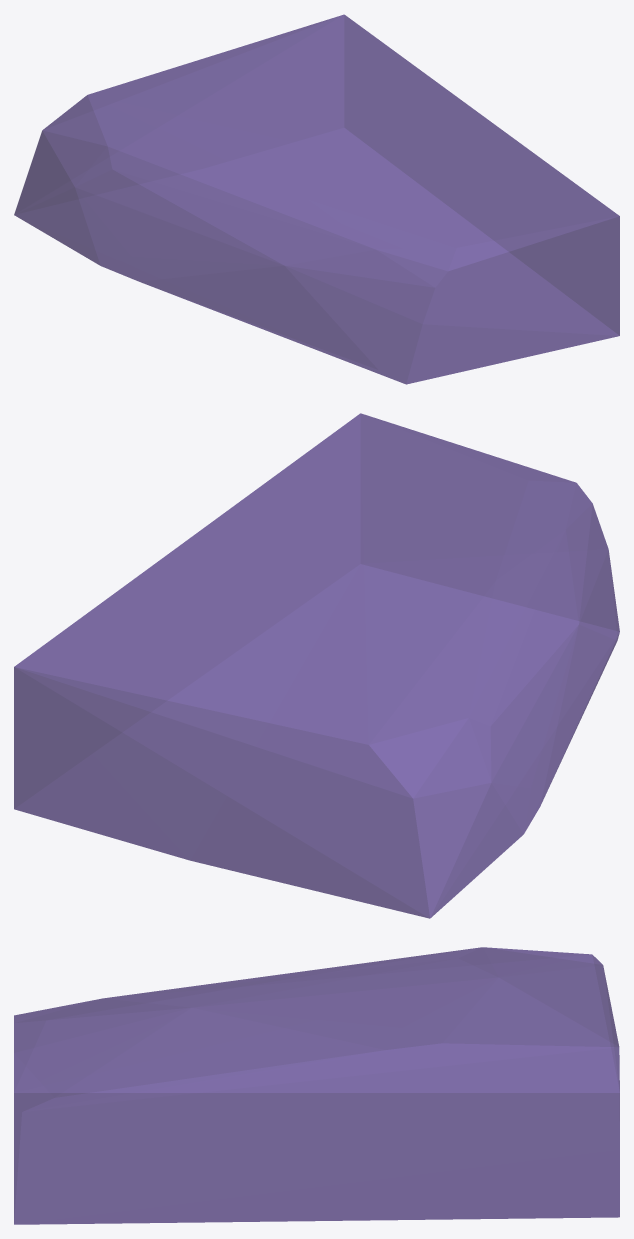
The picture shows the model from 3 angles, top to bottom: view 1: azimuth 30°, elevation 25°; view 2: azimuth 150°, elevation 25°; view 3: azimuth 270°, elevation 25°; orthographic projection. The views are drawn at different scales.
Parts seen in each view (by area): view 1: Shape_IndexedFaceSet.012_Shape_IndexedFaceSet.14059; view 2: Shape_IndexedFaceSet.012_Shape_IndexedFaceSet.14059; view 3: Shape_IndexedFaceSet.012_Shape_IndexedFaceSet.14059.
Boxes of the visible parts, bbox=[...] form: Shape_IndexedFaceSet.012_Shape_IndexedFaceSet.14059: bbox=[14, 14, 619, 384]; Shape_IndexedFaceSet.012_Shape_IndexedFaceSet.14059: bbox=[14, 413, 619, 918]; Shape_IndexedFaceSet.012_Shape_IndexedFaceSet.14059: bbox=[14, 947, 619, 1224].
Size of the model in its own units: 0.1443 by 0.05 by 0.2083.
